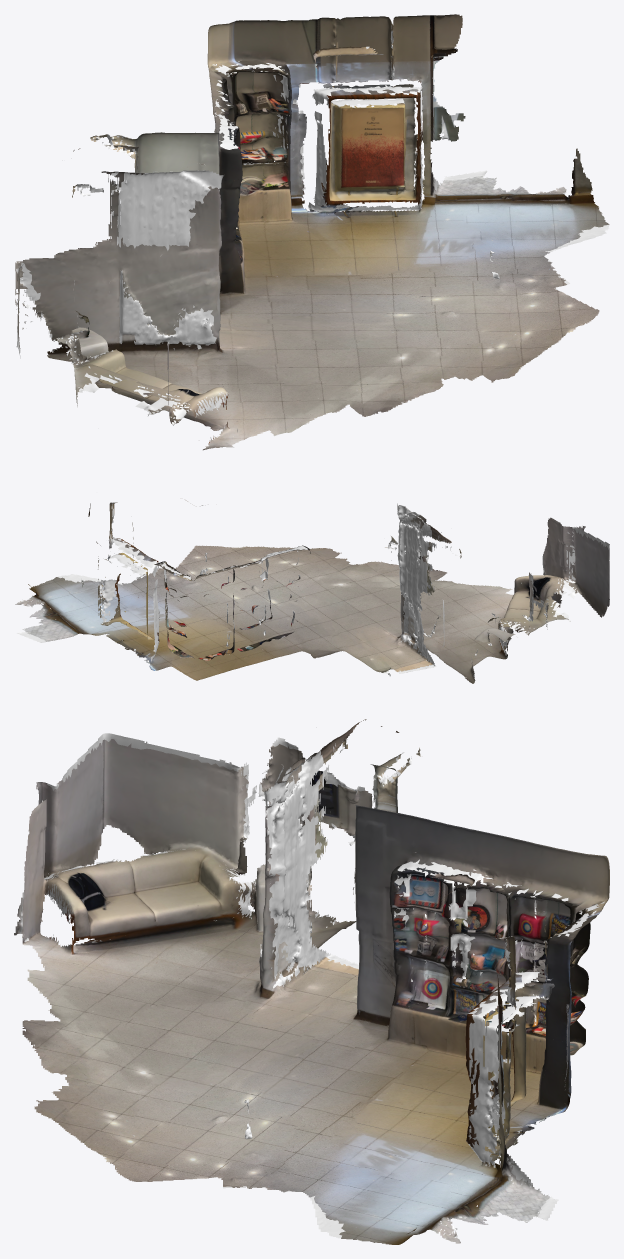
3 views of the same model, one above another, from view 1: azimuth 30°, elevation 25°; view 2: azimuth 150°, elevation 25°; view 3: azimuth 270°, elevation 25° (orthographic). The views are drawn at different scales.
Parts seen in each view (by area): view 1: texture_3, texture_2, texture_1, texture_0, object 1, texture_4; view 2: texture_3, texture_2, texture_1, object 1, texture_4, texture_0; view 3: texture_2, texture_1, texture_3, texture_0, object 1, texture_4.
Part boxes in pixels (<box>): texture_3: <box>228,104,609,390</box>; texture_2: <box>76,158,440,447</box>; texture_1: <box>15,105,241,450</box>; texture_0: <box>91,14,462,236</box>; object 1: <box>16,22,609,446</box>; texture_4: <box>310,272,599,387</box>; texture_3: <box>15,550,399,674</box>; texture_2: <box>114,561,570,680</box>; texture_1: <box>267,505,609,683</box>; object 1: <box>17,500,609,680</box>; texture_4: <box>166,545,376,640</box>; texture_0: <box>88,500,396,666</box>; texture_2: <box>22,842,583,1144</box>; texture_1: <box>14,719,508,1029</box>; texture_3: <box>36,882,585,1244</box>; texture_0: <box>360,749,609,1139</box>; object 1: <box>16,732,604,1239</box>; texture_4: <box>34,1058,396,1181</box>.
Size of the model in its own units: 10.17 by 2.97 by 6.96.
6 materials, 5 textured.
